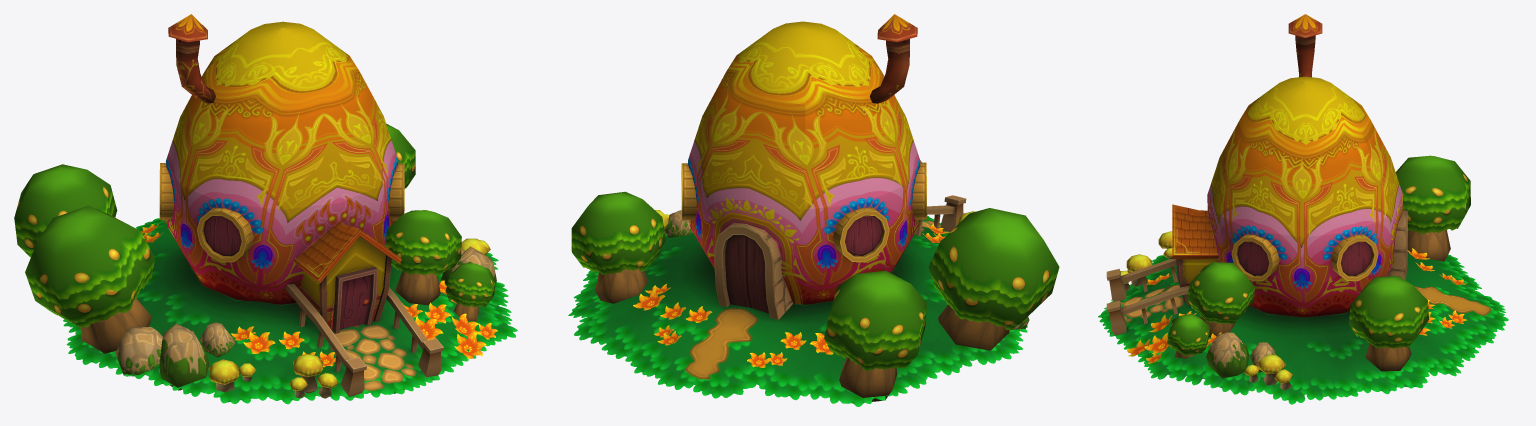
File: Egg_House_02.FBX
3 renders of one model, left to right at view 1: azimuth 30°, elevation 25°; view 2: azimuth 150°, elevation 25°; view 3: azimuth 270°, elevation 25°, orthographic. The views are drawn at different scales.
Visible parts, largest first — view 1: Egg_House_02; view 2: Egg_House_02; view 3: Egg_House_02.
Part boxes in pixels (box(x1,y1,x2,y2)): Egg_House_02: box(14, 14, 517, 404); Egg_House_02: box(568, 14, 1059, 406); Egg_House_02: box(1098, 14, 1508, 404).
Size of the model in its own units: 4.89 by 3.22 by 4.67.
